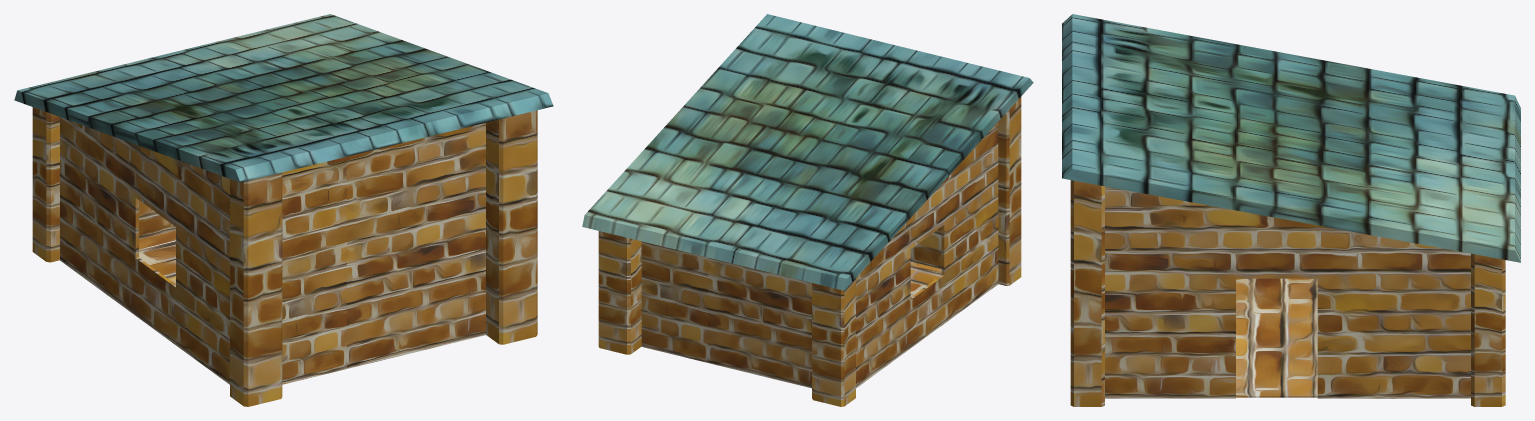
File: Garage.fbx
3 renders of one model, left to right at view 1: azimuth 30°, elevation 25°; view 2: azimuth 150°, elevation 25°; view 3: azimuth 270°, elevation 25°, orthographic. The views are drawn at different scales.
Visible parts, largest first — view 1: Top, Walls1, Walls2, Walls3, Floor, Walls; view 2: Top, Walls1, Walls, Walls3, Walls2, Floor; view 3: Top, Walls3, Floor.
Boxes of the visible parts, x1,y1,x2,y2 form: Top: (14,14,553,182); Walls1: (32,107,282,406); Walls2: (282,123,485,384); Walls3: (486,110,537,344); Floor: (139,230,175,284); Walls: (139,200,175,239); Top: (582,14,1033,290); Walls1: (812,97,1021,406); Walls: (641,241,811,388); Walls3: (598,231,641,354); Walls2: (910,227,941,268); Floor: (910,261,941,296); Top: (1062,14,1520,262); Walls3: (1070,180,1505,406); Floor: (1236,278,1317,397).
Size of the model in its own units: 617 by 452 by 771.
